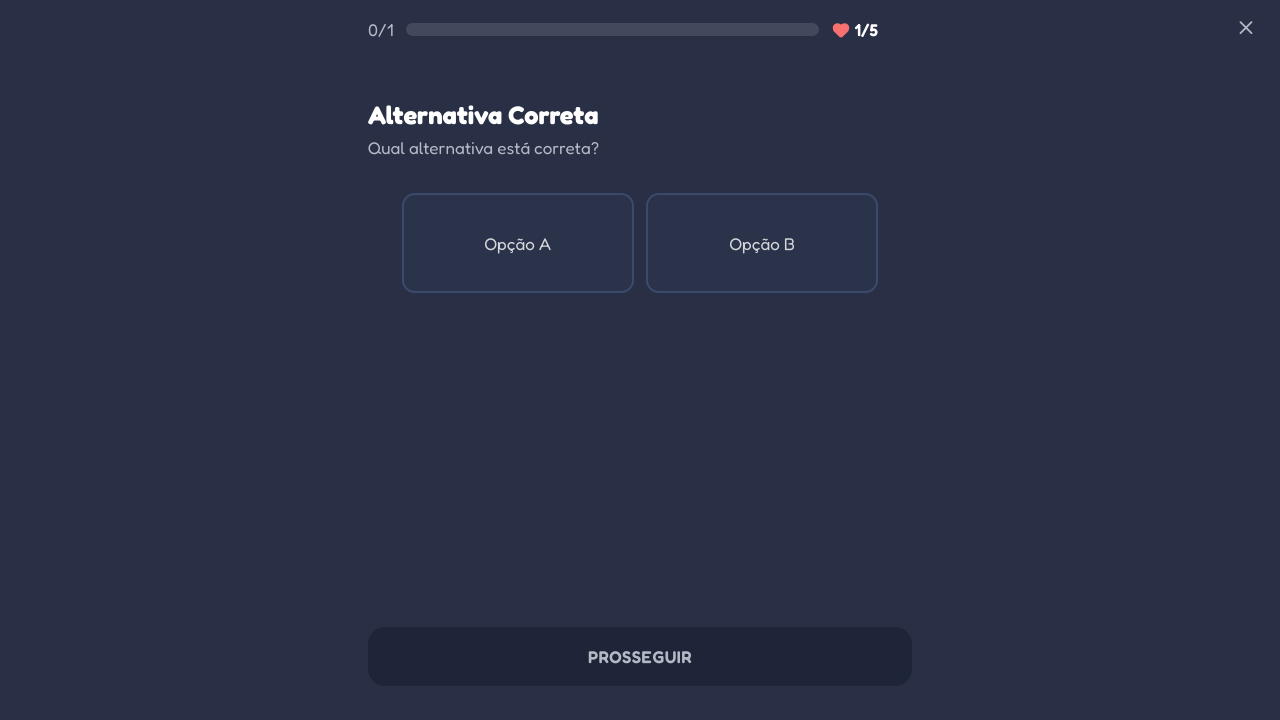
Test: ExerciseSessionFlow › mostra tela sem vidas após errar sem vidas restantes
This screenshot has width=1280, height=720.
Click the button "Opção A" at (518, 243), box [402,193,634,293]
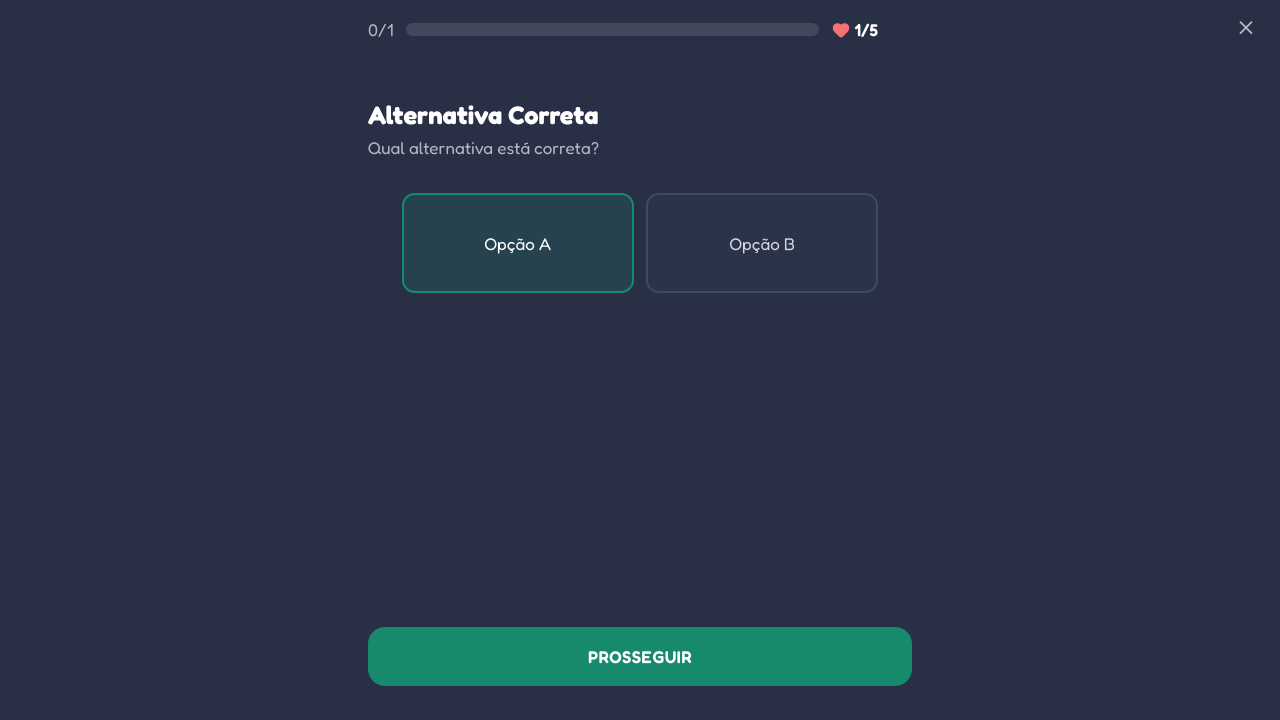
Click the button "PROSSEGUIR" at (640, 656), box [368,626,912,686]
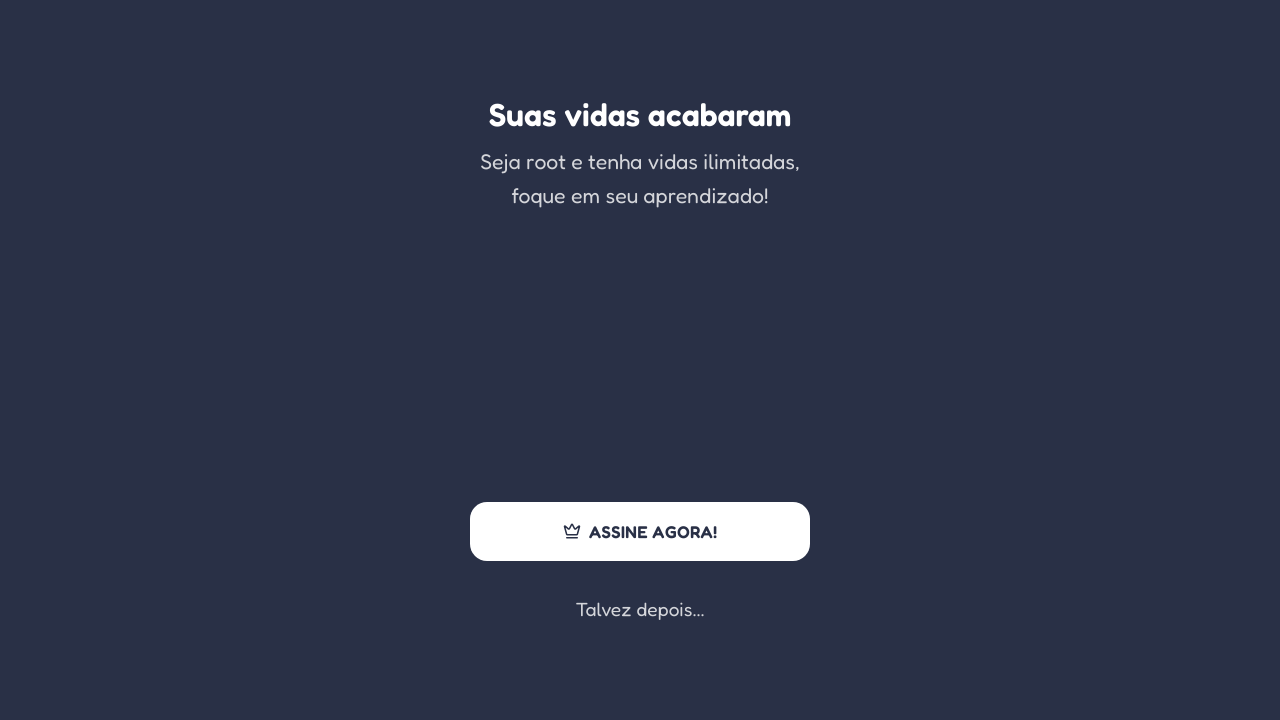
Now the heading "Suas vidas acabaram" is shown, box [470,95,810,135]
